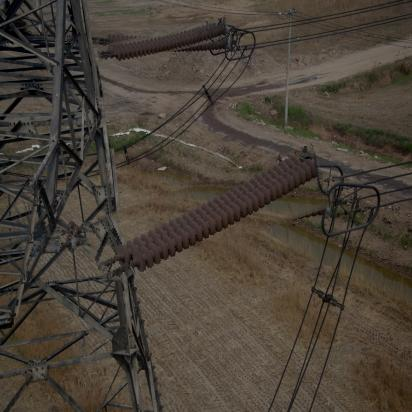insulator: (85, 164, 332, 268), (98, 26, 232, 62)
